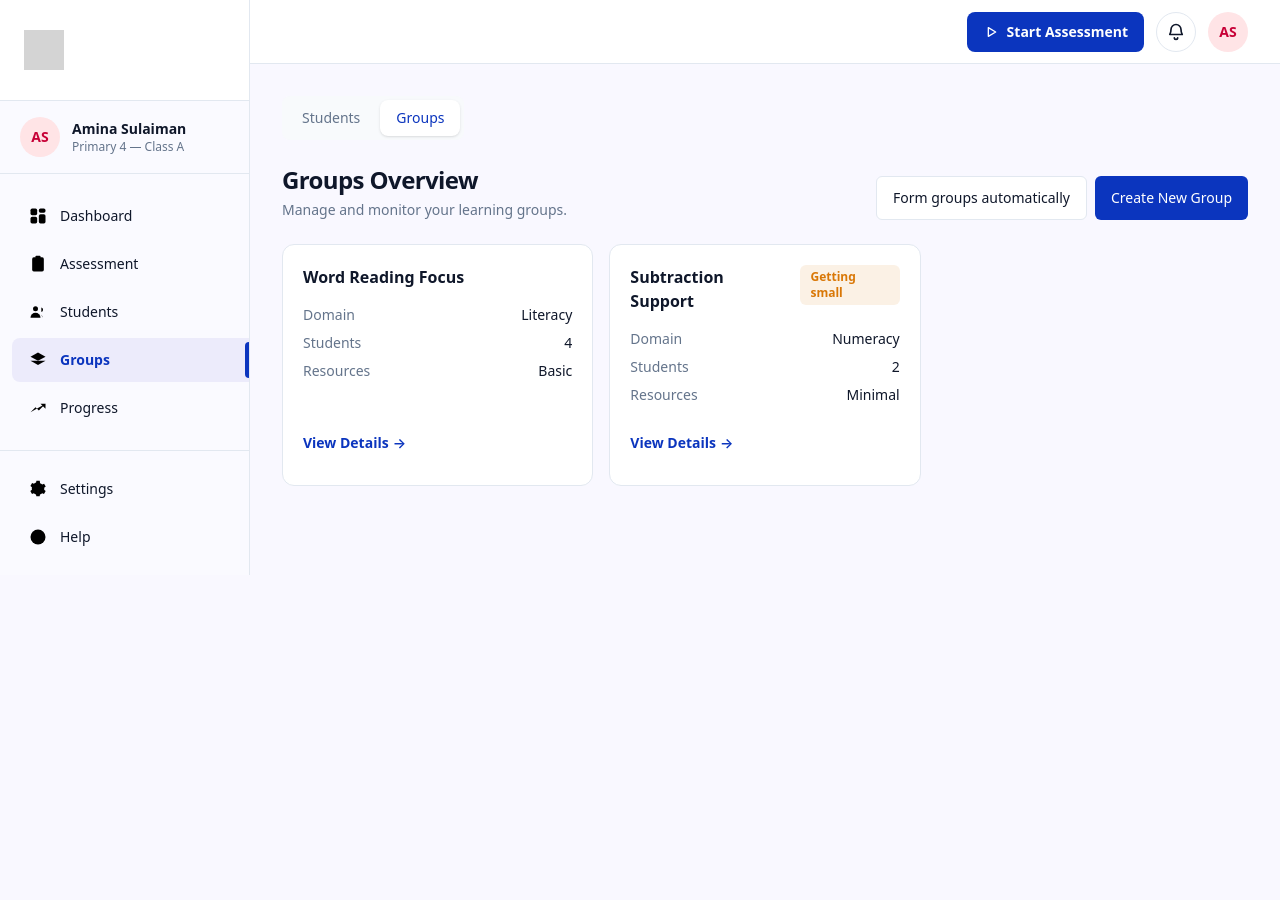
Scenario: GroupsPage › opens the create-group dialog
Check: the heading "Groups Overview" is shown, box [282,163,478,196]
Click the button "Create New Group" at {"x": 1172, "y": 198}, box [1095,176,1248,220]
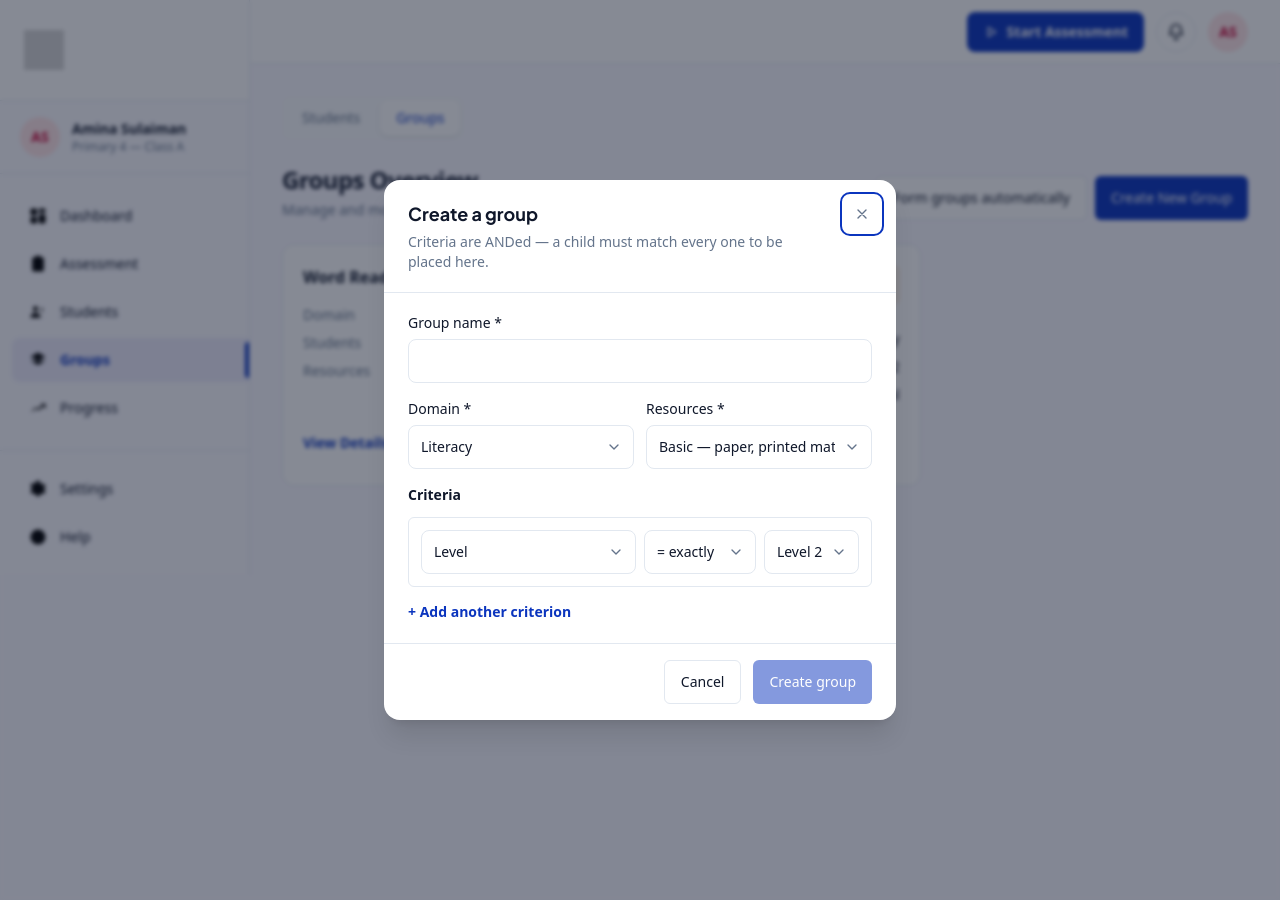
Check: the dialog "Create a group" is shown, box [384,180,896,720]
